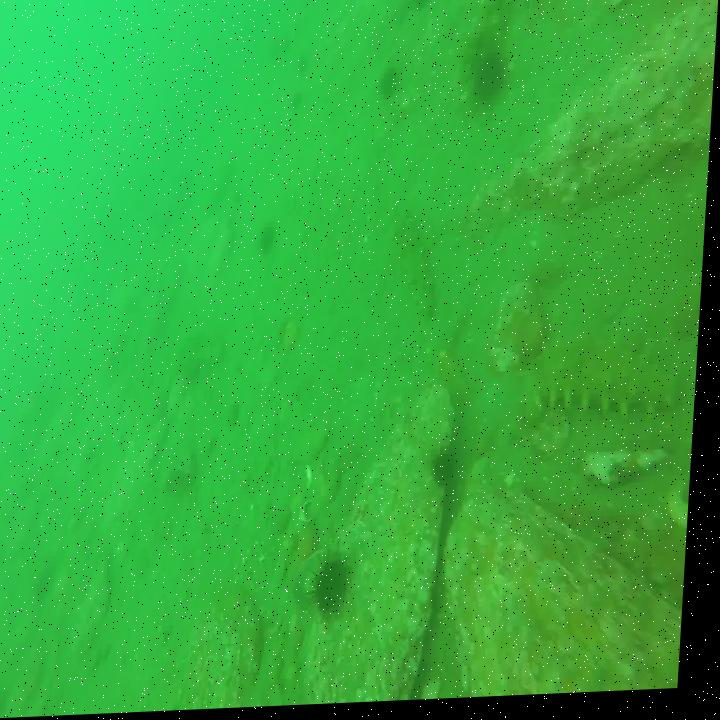echinus: (318, 558, 358, 619), (474, 58, 510, 108), (438, 449, 466, 497), (264, 218, 285, 261), (382, 71, 406, 104)
holothurian: (538, 343, 685, 426), (392, 213, 443, 326)
